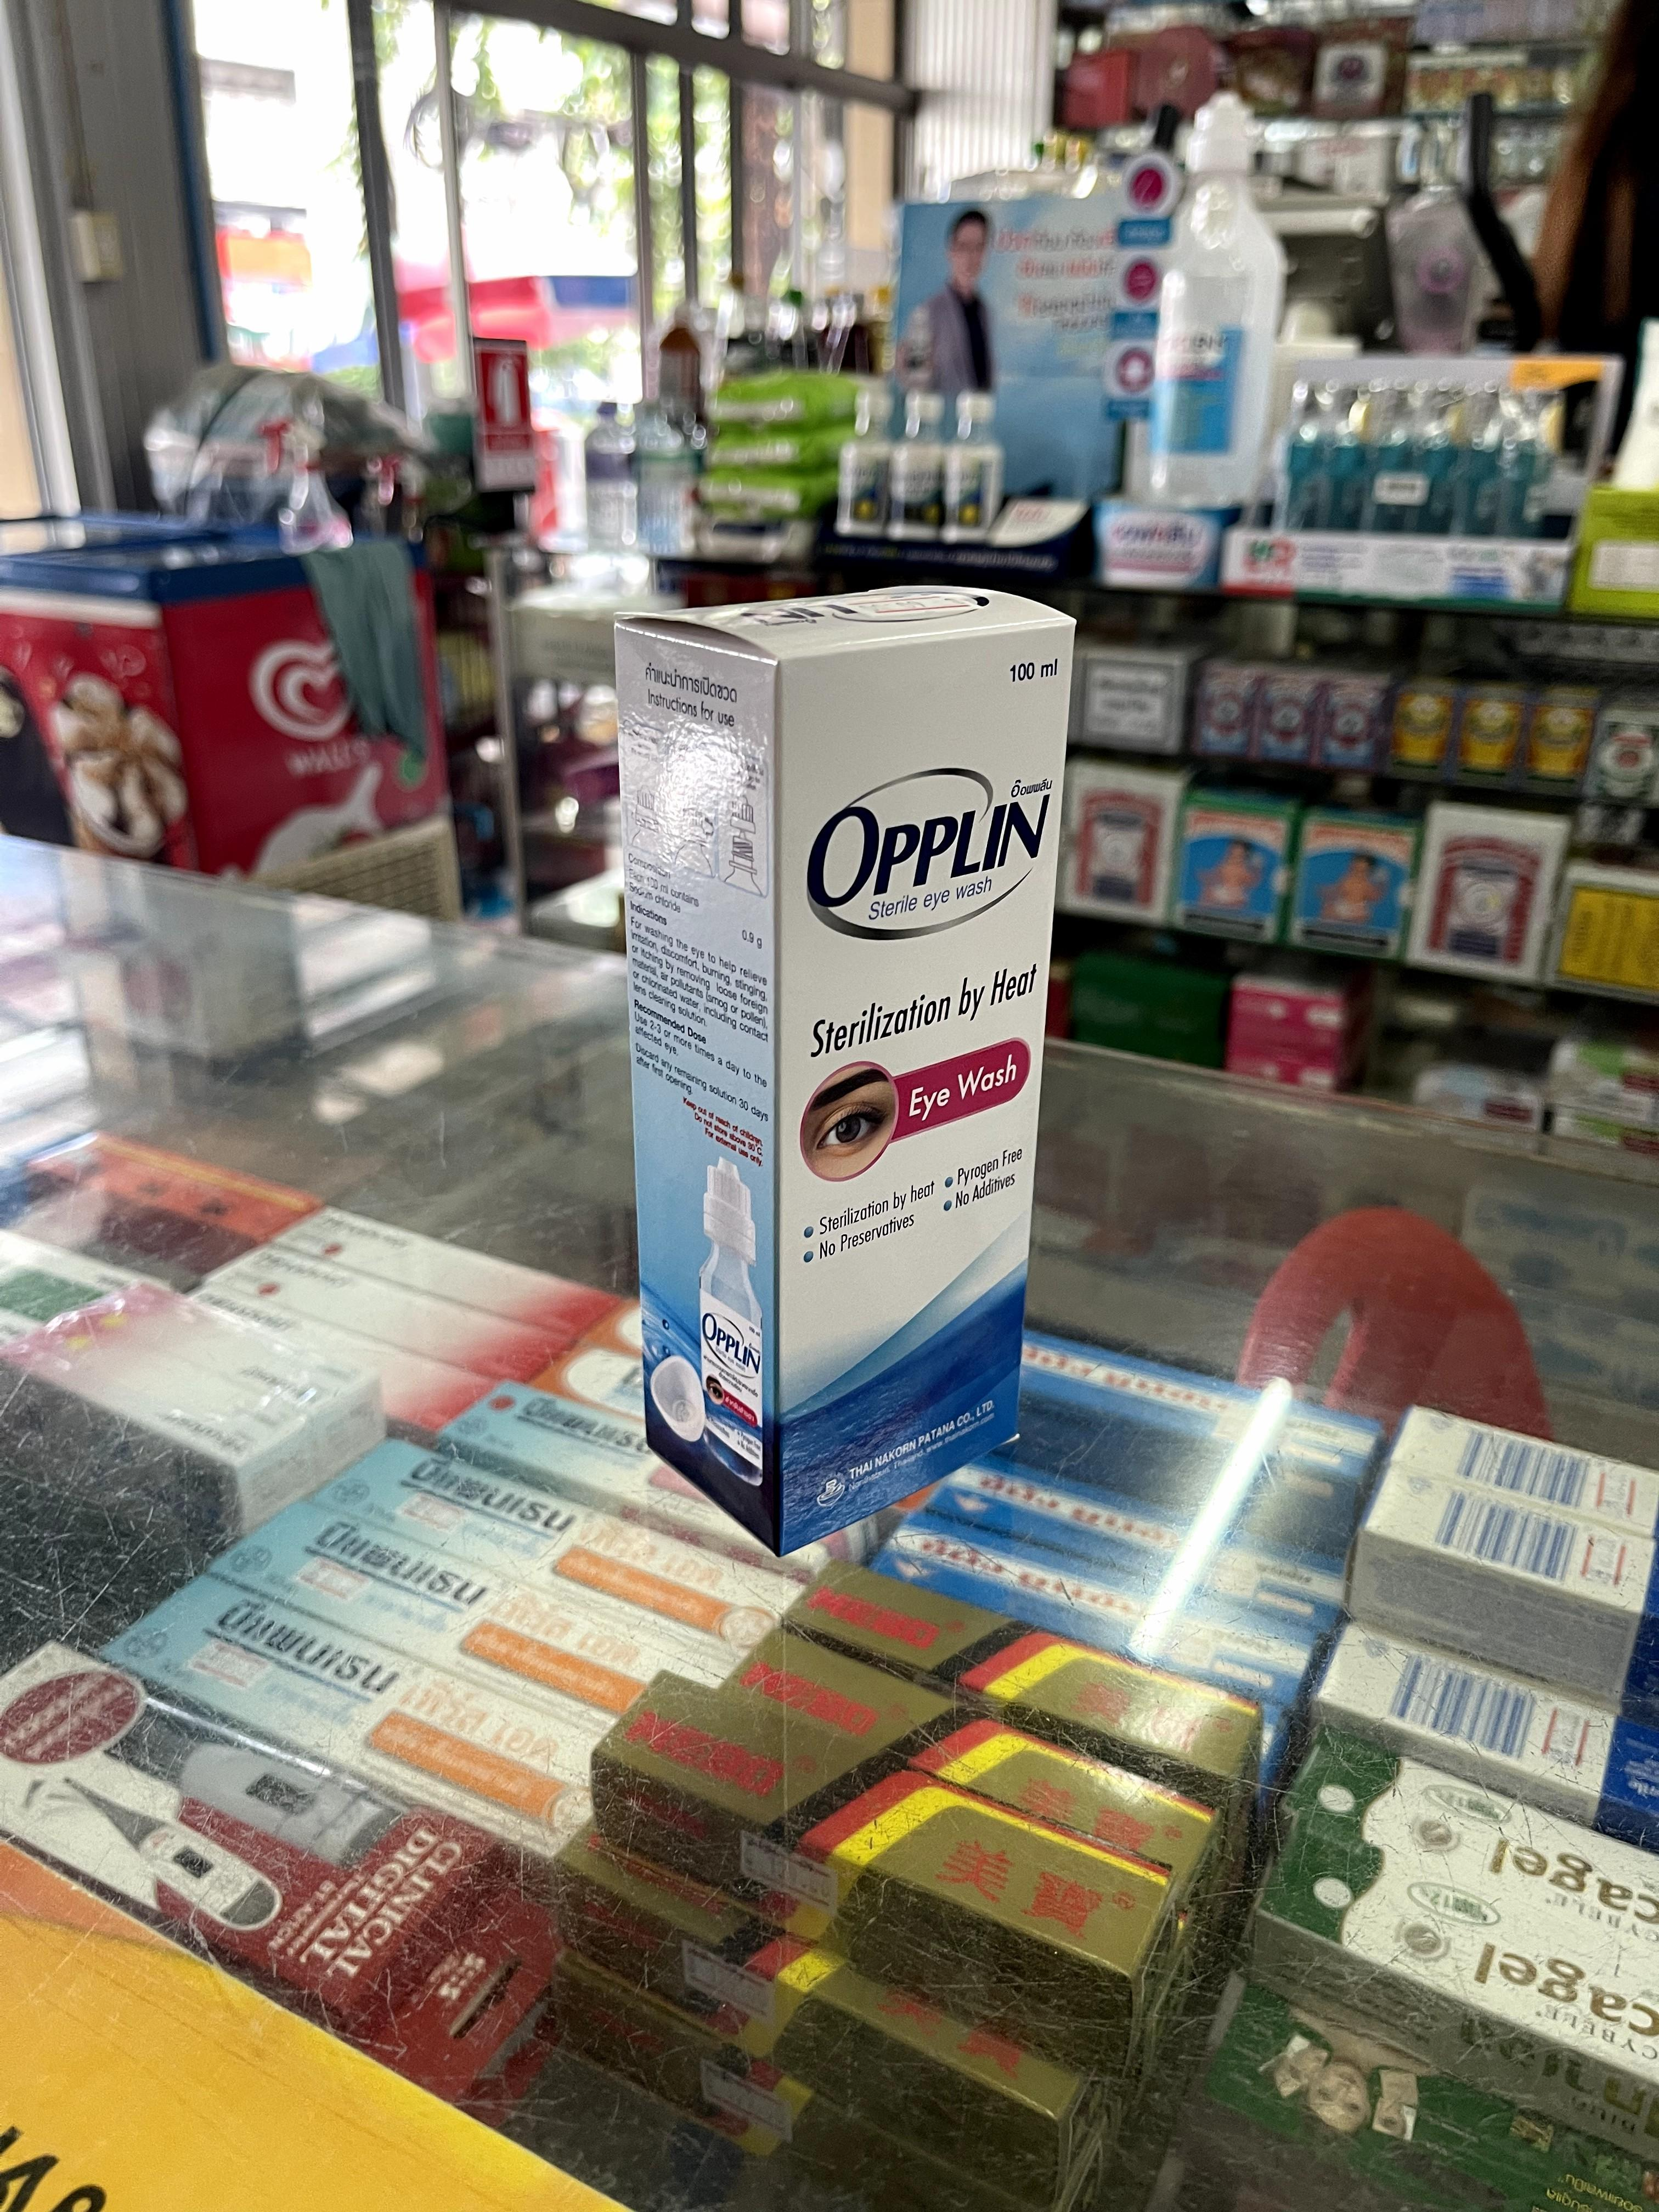Opplin: (617, 582, 1075, 1555)
